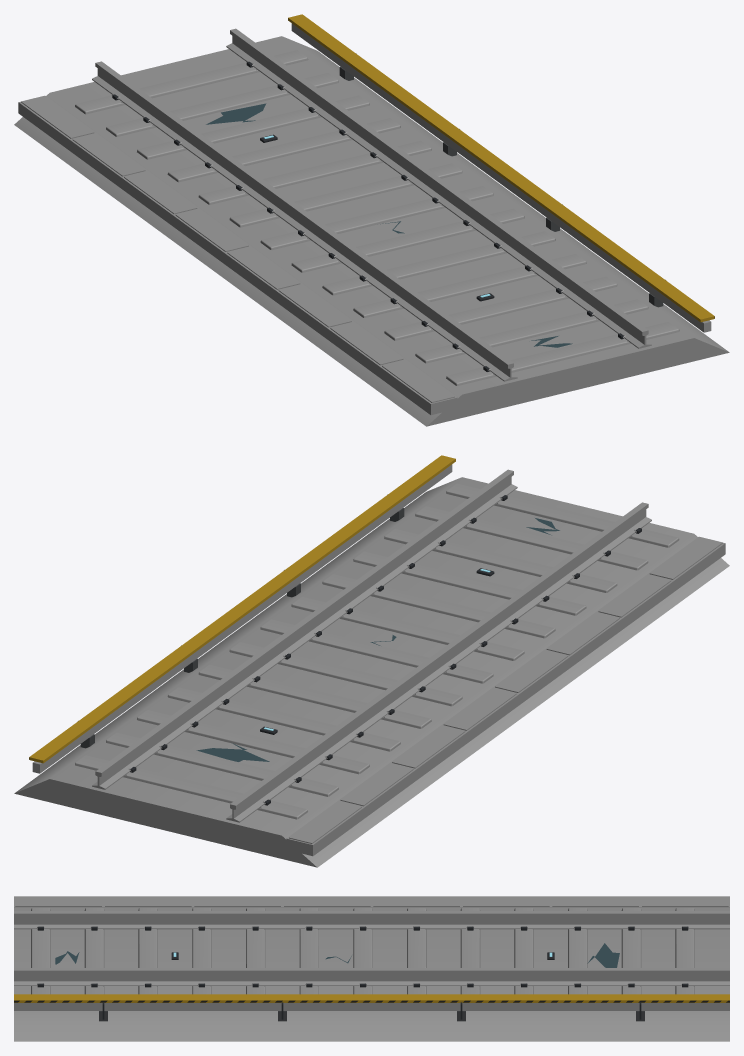
The model's file is Metro_Track_8m.fbx.
3 renders of one model, top to bottom at view 1: azimuth 30°, elevation 25°; view 2: azimuth 150°, elevation 25°; view 3: azimuth 270°, elevation 25°, orthographic. The views are drawn at different scales.
Parts seen in each view (by area): view 1: Metro_Track_8m_LOD0; view 2: Metro_Track_8m_LOD0; view 3: Metro_Track_8m_LOD0.
Part boxes in pixels (box(x1,y1,x2,y2)): Metro_Track_8m_LOD0: box(14, 14, 729, 426); Metro_Track_8m_LOD0: box(14, 455, 729, 867); Metro_Track_8m_LOD0: box(14, 896, 729, 1041).
Size of what is drawn, in the model's own units: 3.4 by 0.45 by 8.
